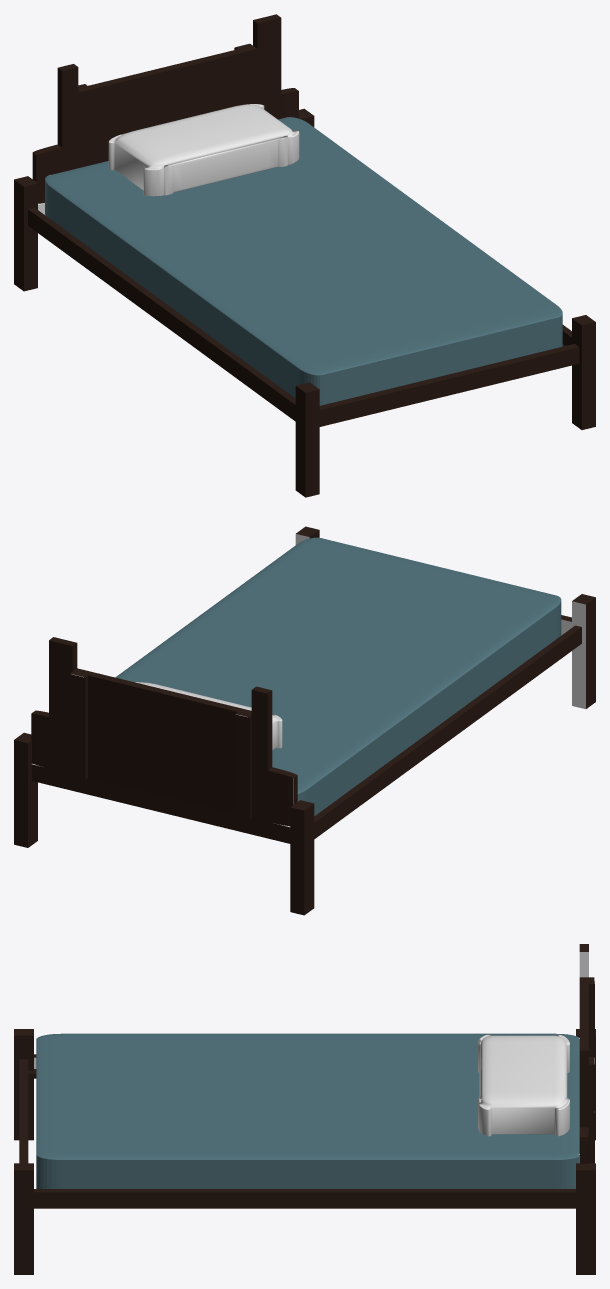
The model's file is bed.fbx.
3 views of the same model, one above another, from view 1: azimuth 30°, elevation 25°; view 2: azimuth 150°, elevation 25°; view 3: azimuth 270°, elevation 25° (orthographic).
Parts seen in each view (by area): view 1: Cube.002; view 2: Cube.002; view 3: Cube.002.
Part boxes in pixels (left/top/right/bottom): Cube.002: left=14, top=14, right=595, bottom=497; Cube.002: left=14, top=526, right=595, bottom=915; Cube.002: left=14, top=944, right=595, bottom=1274.
Size of the model in its own units: 140 by 96.7 by 244.
